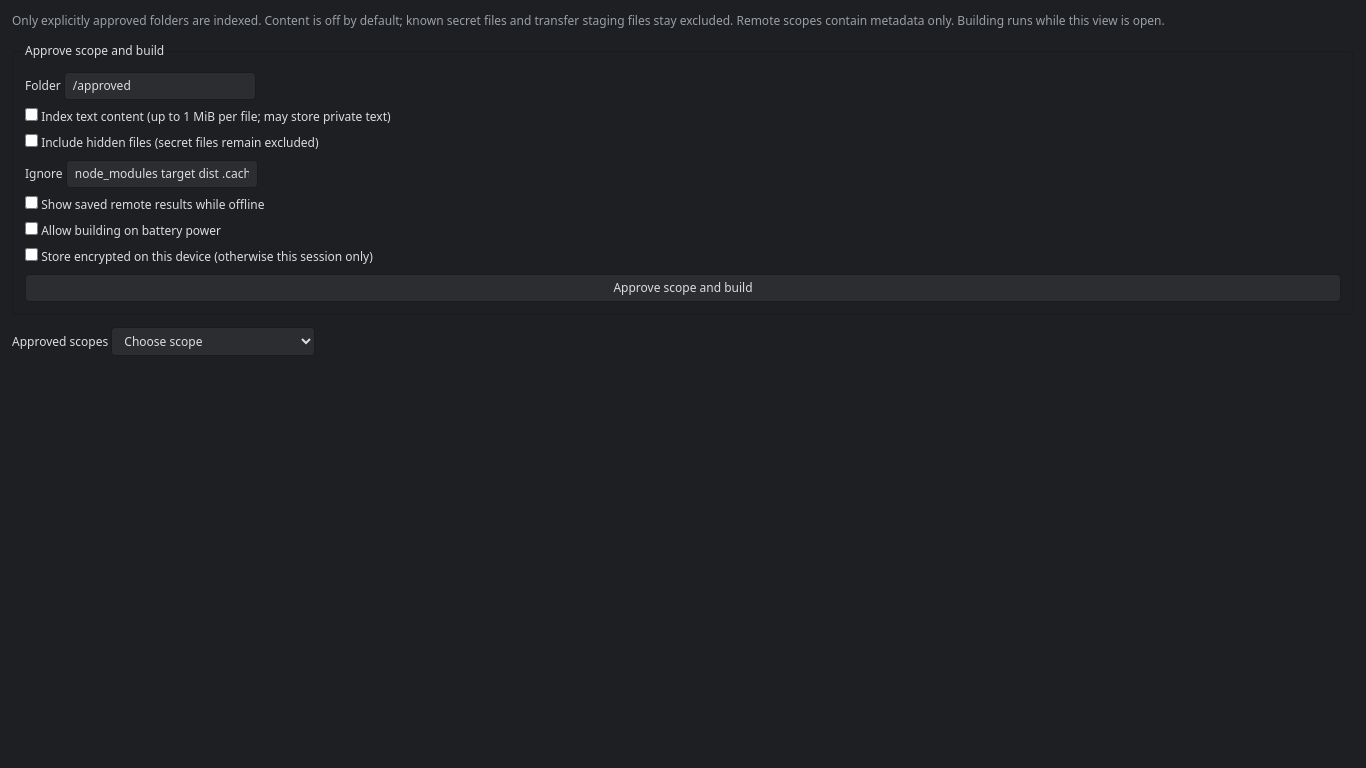
Scenario: labels offline snapshots and prevents revealing disconnected results
Select "/approved (0-abcd) — Paused" in the dropdown labelled "Approved scopes" at (213, 342), box [111,327,315,356]
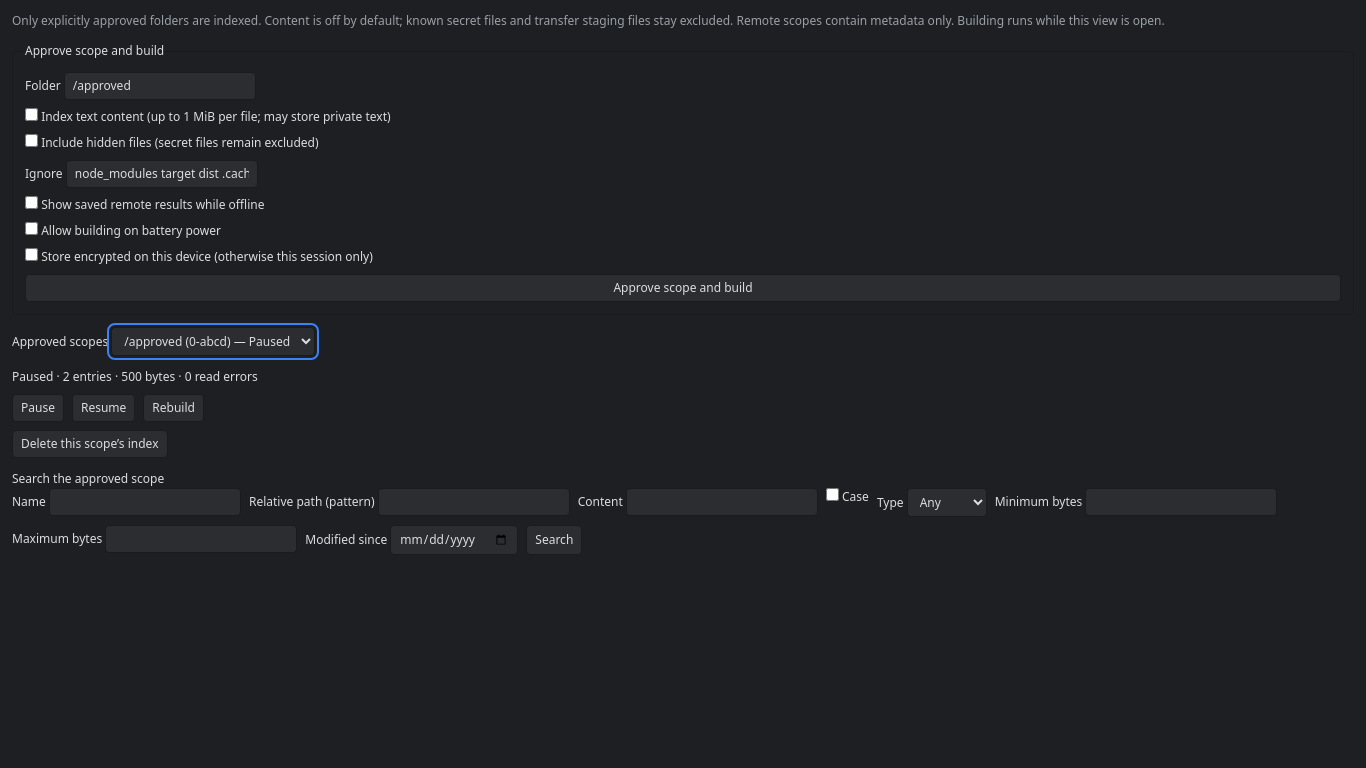
Click the button "Search" at (554, 540), box [526,525,582,555]
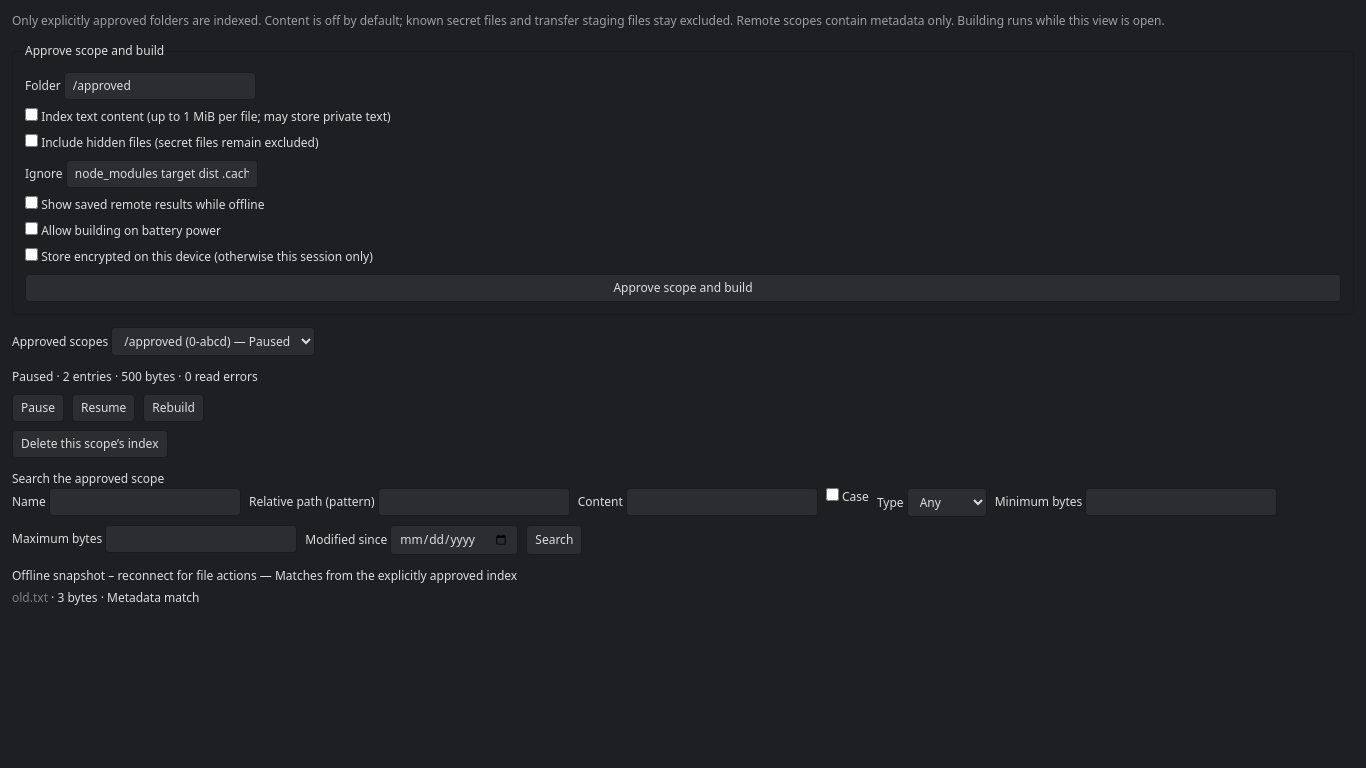
Expected: the button "old.txt" is disabled, [12,585,48,611]
Expected: the text "Offline snapshot" is shown, [12,567,257,584]
